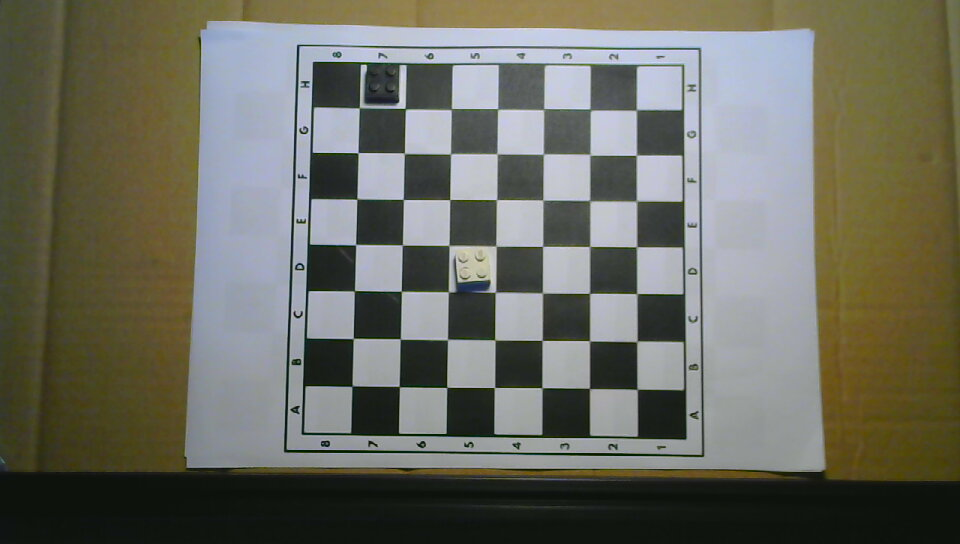bp: (365, 62, 400, 103)
wp: (453, 248, 492, 287)
